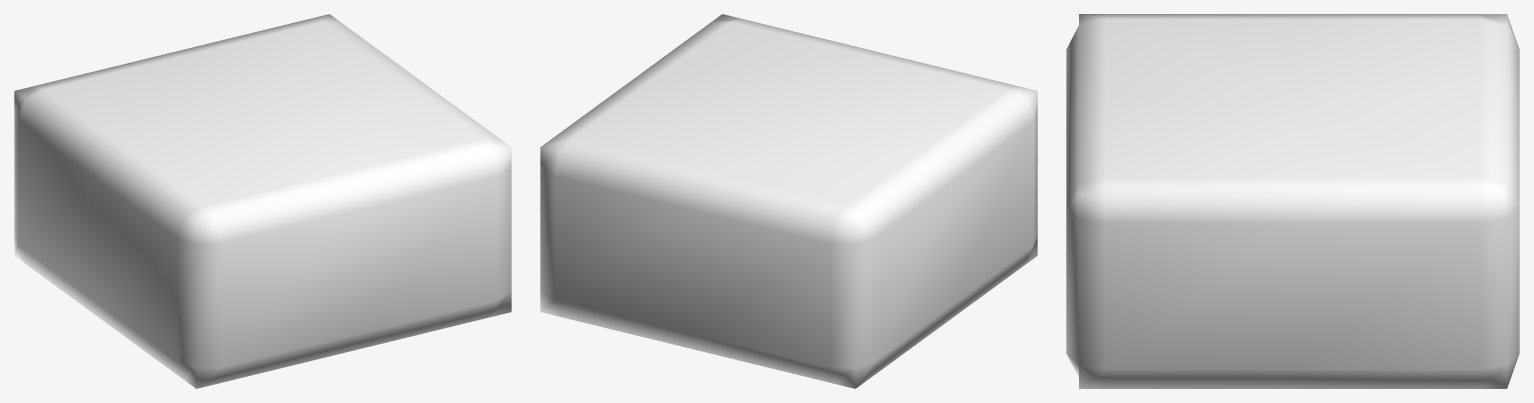
The model's file is couch.obj.
3 renders of one model, left to right at view 1: azimuth 30°, elevation 25°; view 2: azimuth 150°, elevation 25°; view 3: azimuth 270°, elevation 25°, orthographic. The views are drawn at different scales.
Parts seen in each view (by area): view 1: Couch.001_Cube.001; view 2: Couch.001_Cube.001; view 3: Couch.001_Cube.001.
Part boxes in pixels (x1=…): Couch.001_Cube.001: x1=14, y1=14, x2=511, y2=388; Couch.001_Cube.001: x1=540, y1=14, x2=1037, y2=388; Couch.001_Cube.001: x1=1066, y1=14, x2=1519, y2=388.
Size of the model in its own units: 1.05 by 0.5292 by 1.06.
